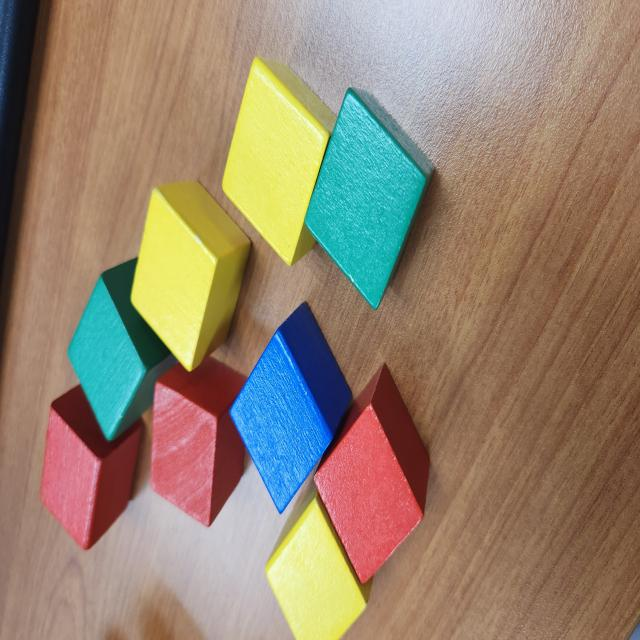blue: (228, 301, 354, 515)
green: (305, 89, 436, 307), (66, 256, 181, 444)
red: (312, 361, 432, 584), (150, 346, 249, 529), (39, 380, 144, 552)
yellow: (220, 57, 340, 268), (131, 182, 252, 372), (264, 474, 376, 640)
